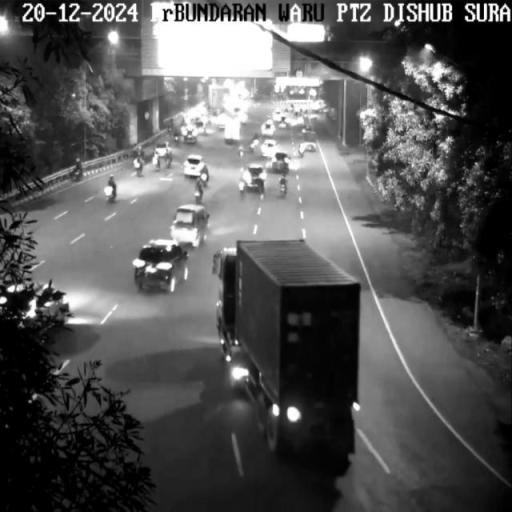car: (133, 236, 190, 292), (172, 204, 208, 247)
truck: (213, 236, 363, 465)
